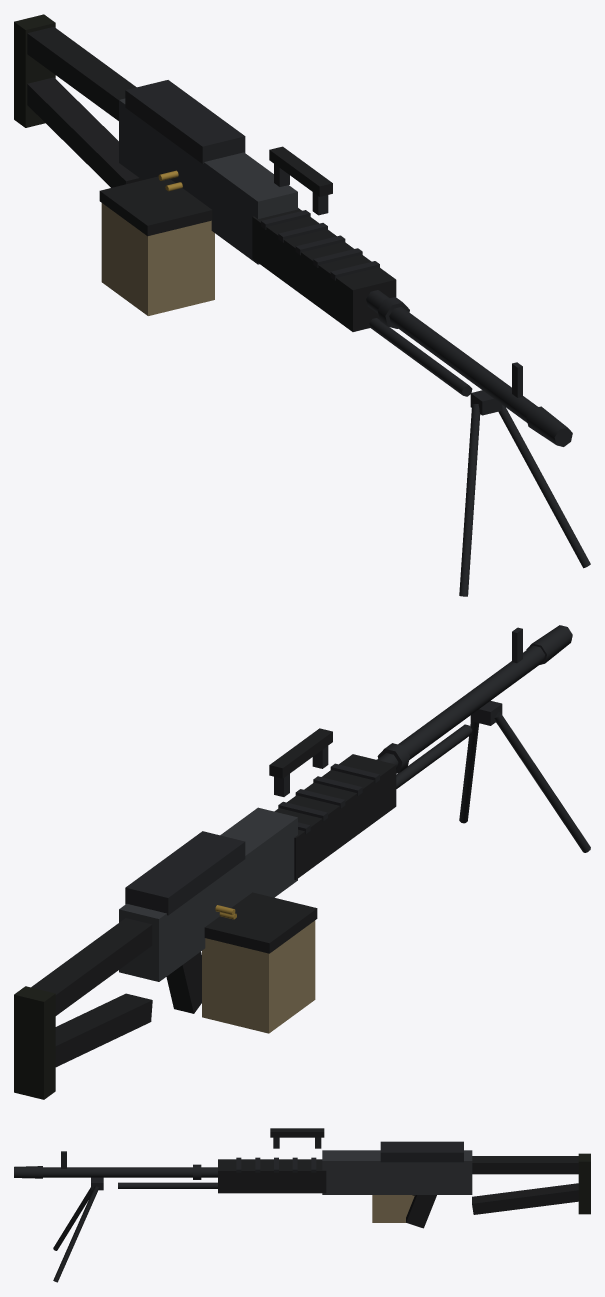
File: machine_gun_lod.glb
3 renders of one model, top to bottom at view 1: azimuth 30°, elevation 25°; view 2: azimuth 150°, elevation 25°; view 3: azimuth 270°, elevation 25°, orthographic. The views are drawn at different scales.
Visible parts, largest first — view 1: MachineGunMesh; view 2: MachineGunMesh; view 3: MachineGunMesh.
Part boxes in pixels (bbox=[...]): MachineGunMesh: bbox=[14, 14, 590, 596]; MachineGunMesh: bbox=[14, 625, 590, 1099]; MachineGunMesh: bbox=[14, 1128, 590, 1282].
Bounding box in the file's own units: 0.225 × 0.361 × 1.38.
